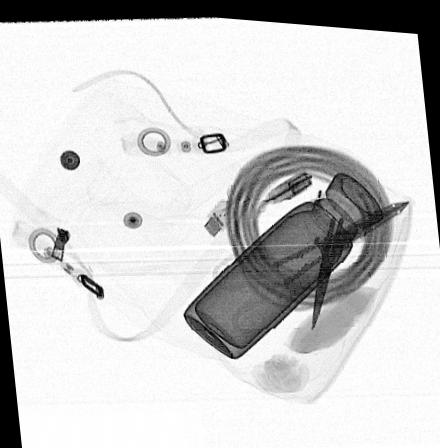Scissors: (212, 194, 411, 330), (311, 176, 366, 322)
